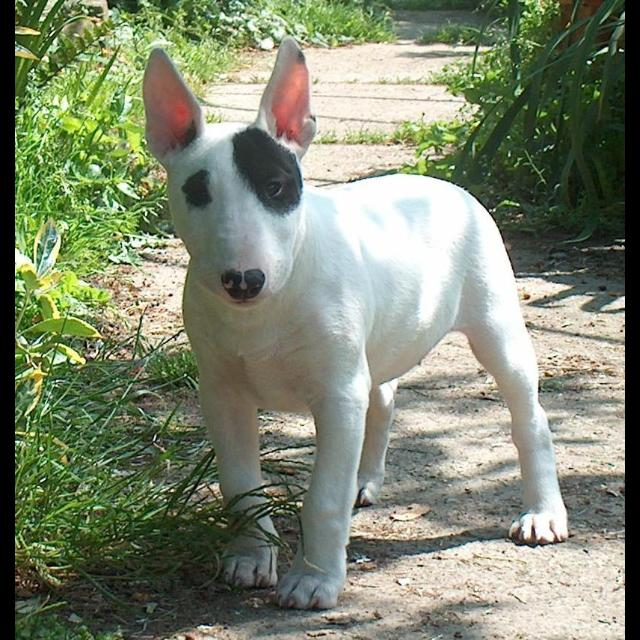bullterrier: (143, 36, 572, 611)
